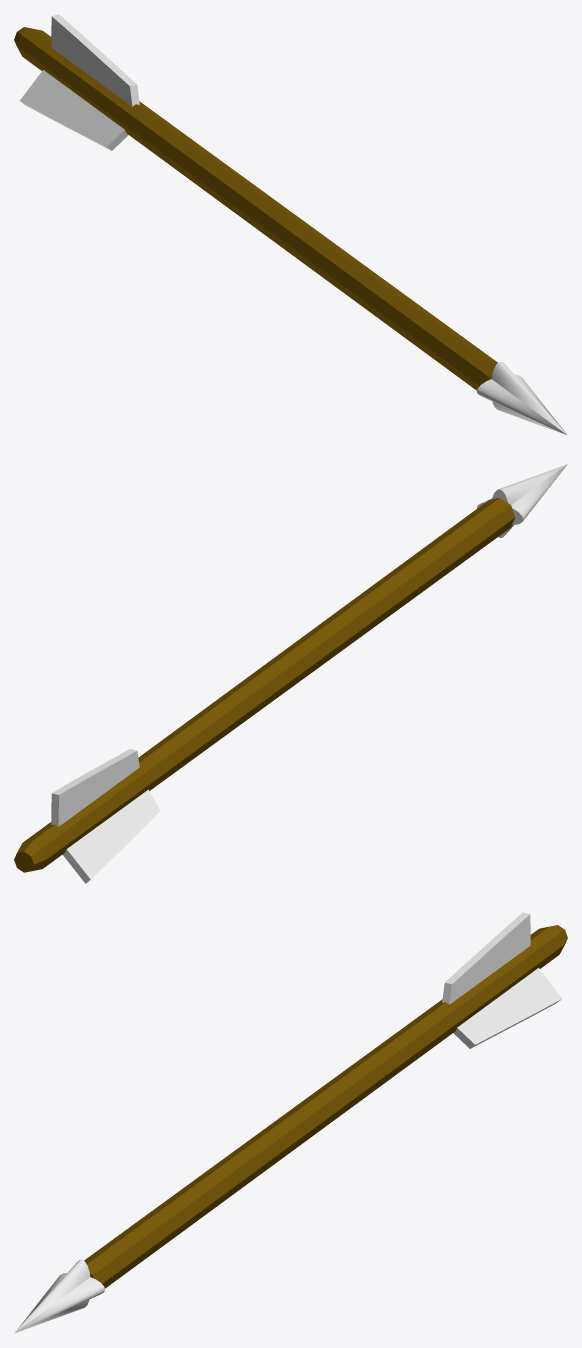
The model's file is Arrow.fbx.
3 renders of one model, top to bottom at view 1: azimuth 30°, elevation 25°; view 2: azimuth 150°, elevation 25°; view 3: azimuth 330°, elevation 25°, orthographic.
Visible parts, largest first — view 1: pCylinder1, polySurface2, polySurface1; view 2: pCylinder1, polySurface2, polySurface1; view 3: pCylinder1, polySurface2, polySurface1.
Part boxes in pixels (left/top/right/bottom): pCylinder1: left=14, top=27, right=497, bottom=390; polySurface2: left=20, top=14, right=139, bottom=150; polySurface1: left=477, top=361, right=567, bottom=435; pCylinder1: left=14, top=498, right=515, bottom=872; polySurface2: left=51, top=749, right=160, bottom=883; polySurface1: left=477, top=464, right=567, bottom=537; pCylinder1: left=84, top=925, right=567, bottom=1288; polySurface2: left=442, top=912, right=561, bottom=1048; polySurface1: left=14, top=1259, right=104, bottom=1333.
Size of the model in its own units: 0.711 by 0.7846 by 9.4.
